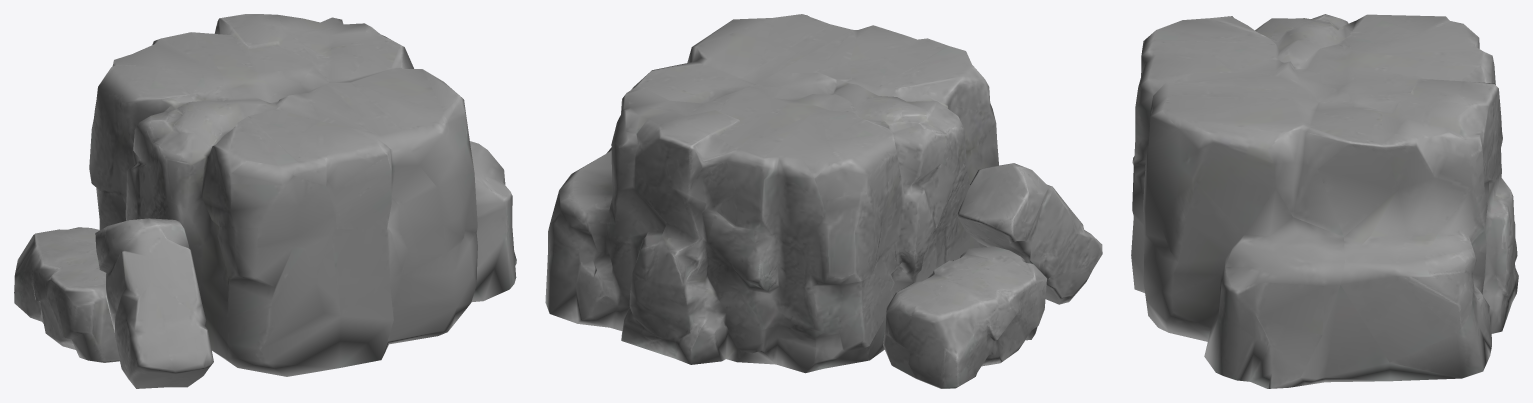
The model's file is stoneNode.glb.
3 renders of one model, left to right at view 1: azimuth 30°, elevation 25°; view 2: azimuth 150°, elevation 25°; view 3: azimuth 270°, elevation 25°, orthographic. The views are drawn at different scales.
Size of the model in its own units: 0.9614 by 0.4521 by 0.7222.
1 material, 1 textured.
